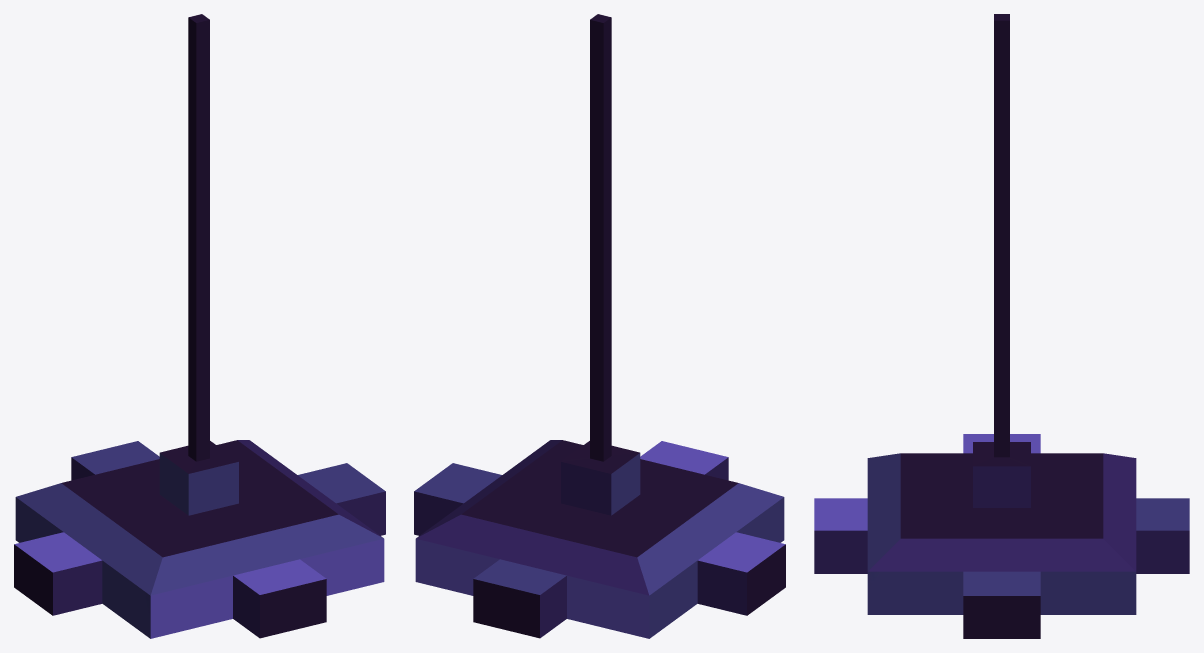
Rendered from light_v001.fbx.
3 views of the same model, side by side, from view 1: azimuth 30°, elevation 25°; view 2: azimuth 150°, elevation 25°; view 3: azimuth 270°, elevation 25° (orthographic).
Visible parts, largest first — view 1: light; view 2: light; view 3: light.
Part boxes in pixels (x1=…): light: x1=14, y1=14, x2=385, y2=638; light: x1=414, y1=14, x2=785, y2=638; light: x1=814, y1=14, x2=1189, y2=638.
Bounding box in the file's own units: 0.1346 × 0.2097 × 0.132.
